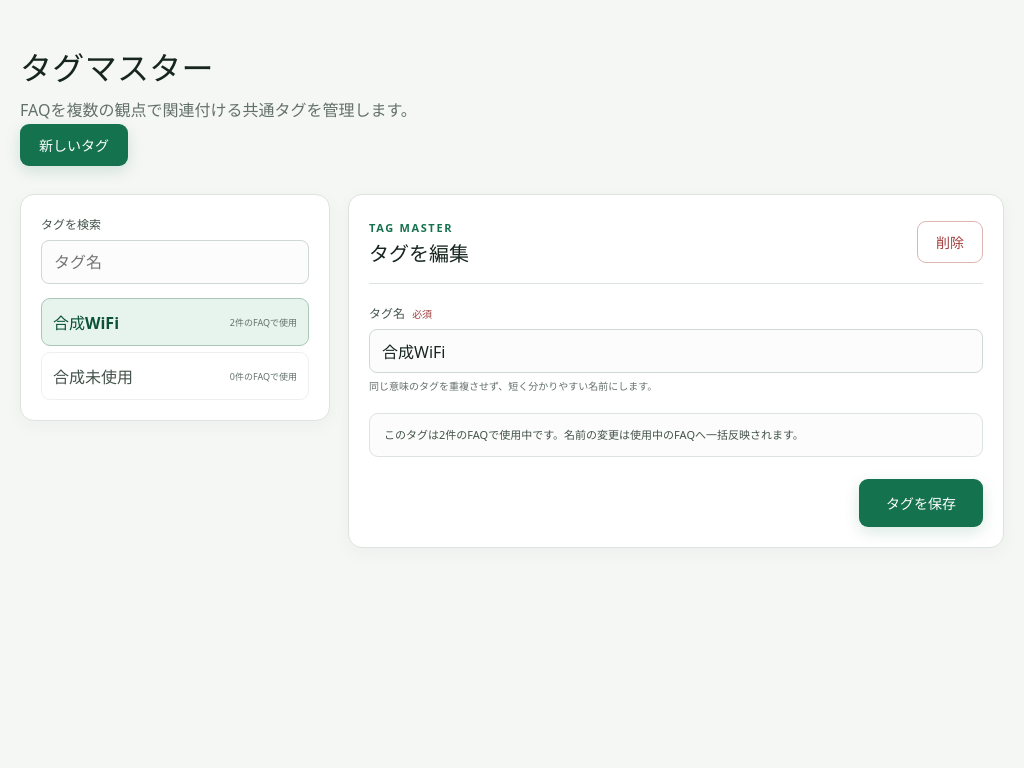
Scenario: TagsPage C# migration contracts › keeps the edited name and shows duplicate errors
The image size is (1024, 768).
Replace the text in the field labelled "タグ名 必須" with "合成重複" at (676, 351), box left=369, top=329, right=983, bottom=373
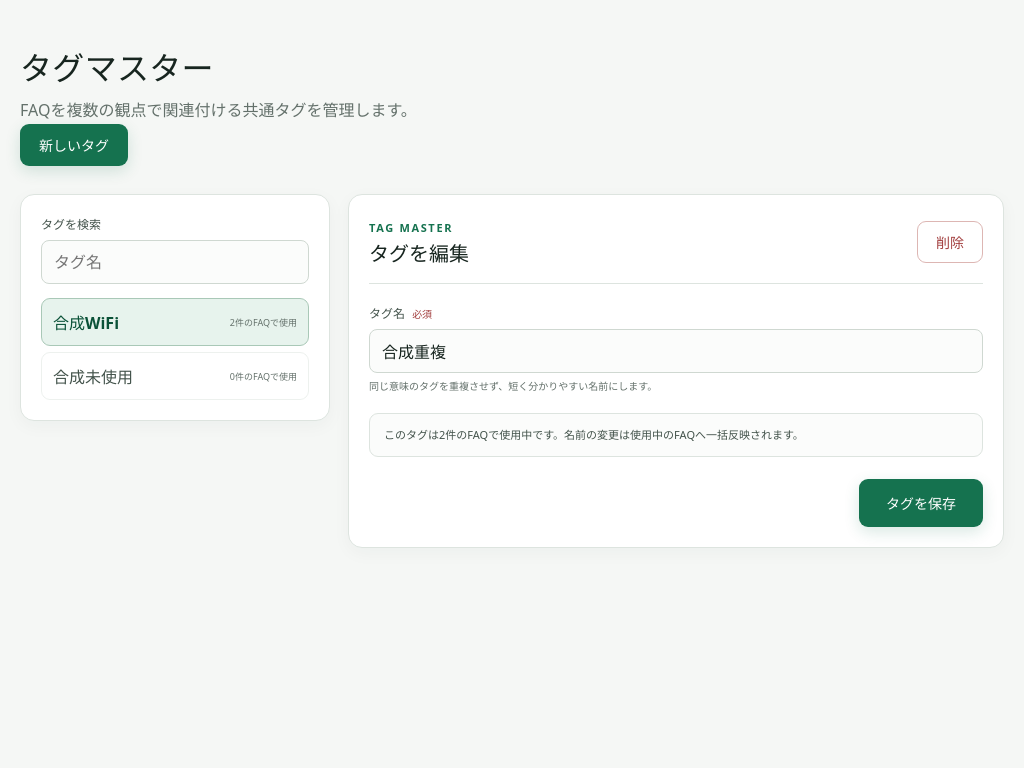
Click the button "タグを保存" at (921, 503), box left=859, top=479, right=983, bottom=527
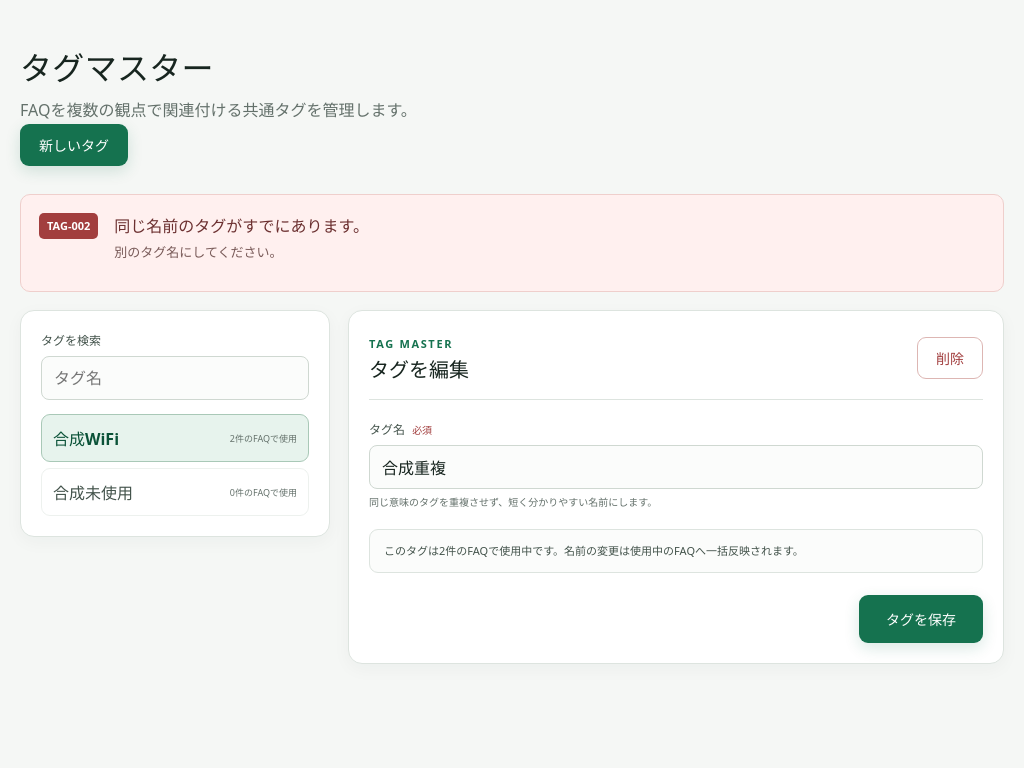
Expected: the button "タグを保存" is enabled, left=859, top=595, right=983, bottom=643
Expected: the message shows "TAG-002", left=47, top=218, right=90, bottom=233
